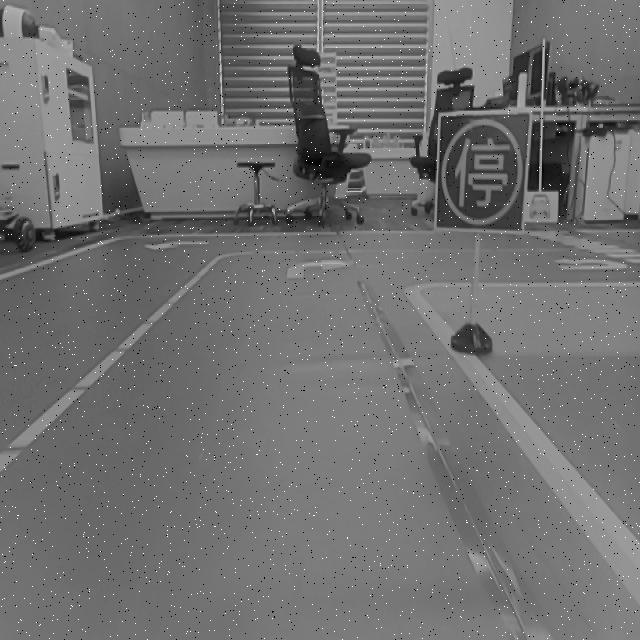left_lane: (0, 257, 220, 471)
right_lane: (406, 294, 639, 605)
